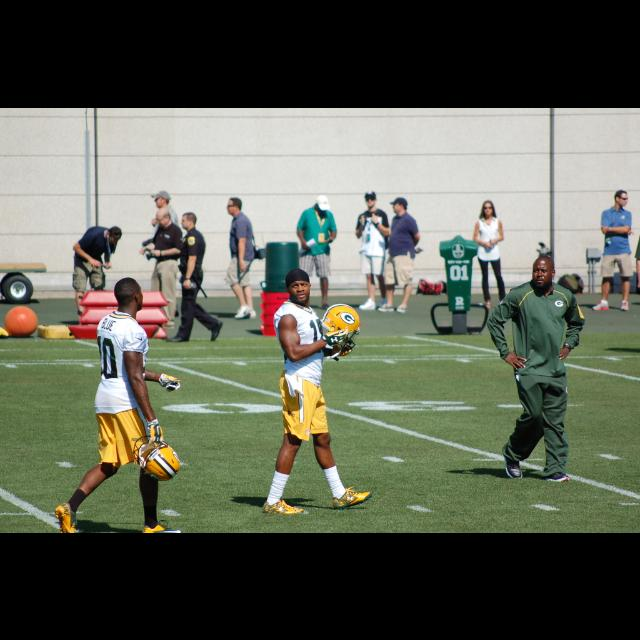Football: (2, 304, 38, 336)
